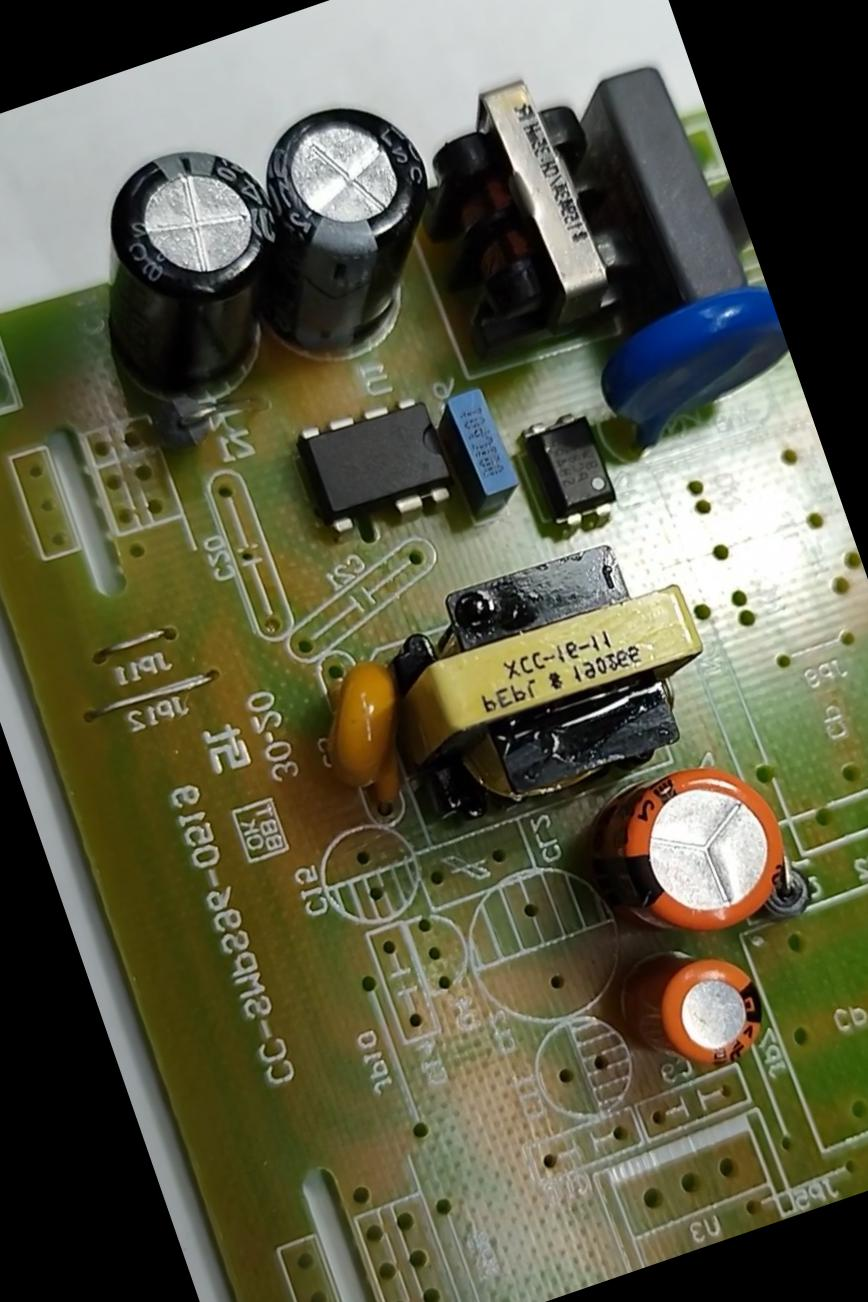Cap1: (544, 720, 834, 986)
Cap2: (599, 920, 808, 1120)
Cap3: (198, 71, 493, 397)
Cap4: (46, 119, 328, 455)
MOSFET: (272, 370, 494, 560)
Mov: (564, 252, 808, 475)
Resistor: (694, 151, 754, 261)
Transformer: (351, 511, 748, 860), (380, 37, 676, 389)
